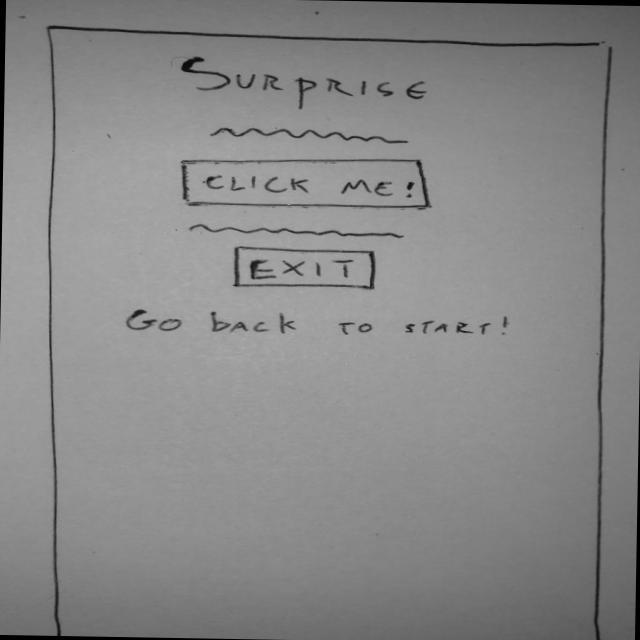button: (173, 154, 444, 213), (235, 245, 383, 294)
container: (33, 22, 624, 640)
label: (163, 50, 454, 114), (118, 304, 527, 344)
text: (191, 121, 436, 150), (187, 221, 419, 246)
